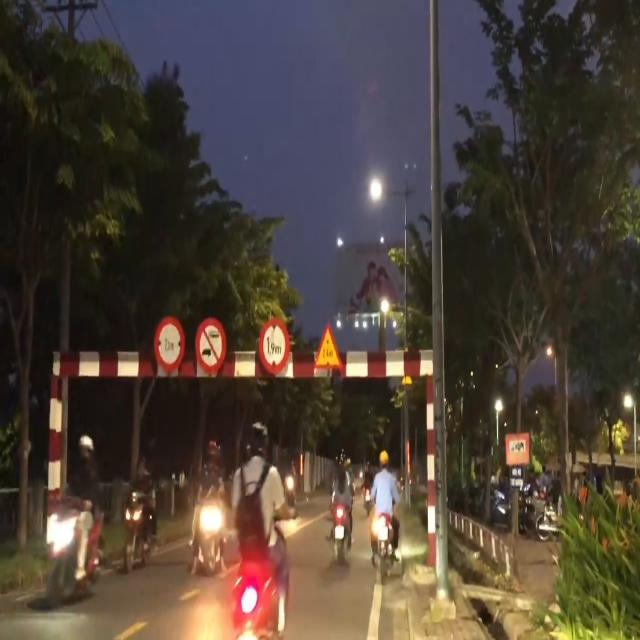Bien bao cam xe oto khach va xe oto tai: (192, 318, 230, 382)
Bien bao chieu cao tinh khong thuc te: (311, 321, 344, 374)
Bien bao han che chieu cao: (257, 312, 294, 381)
